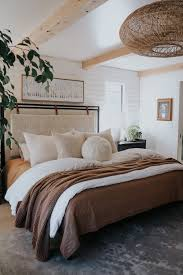bed-matress: (1, 144, 183, 232)
